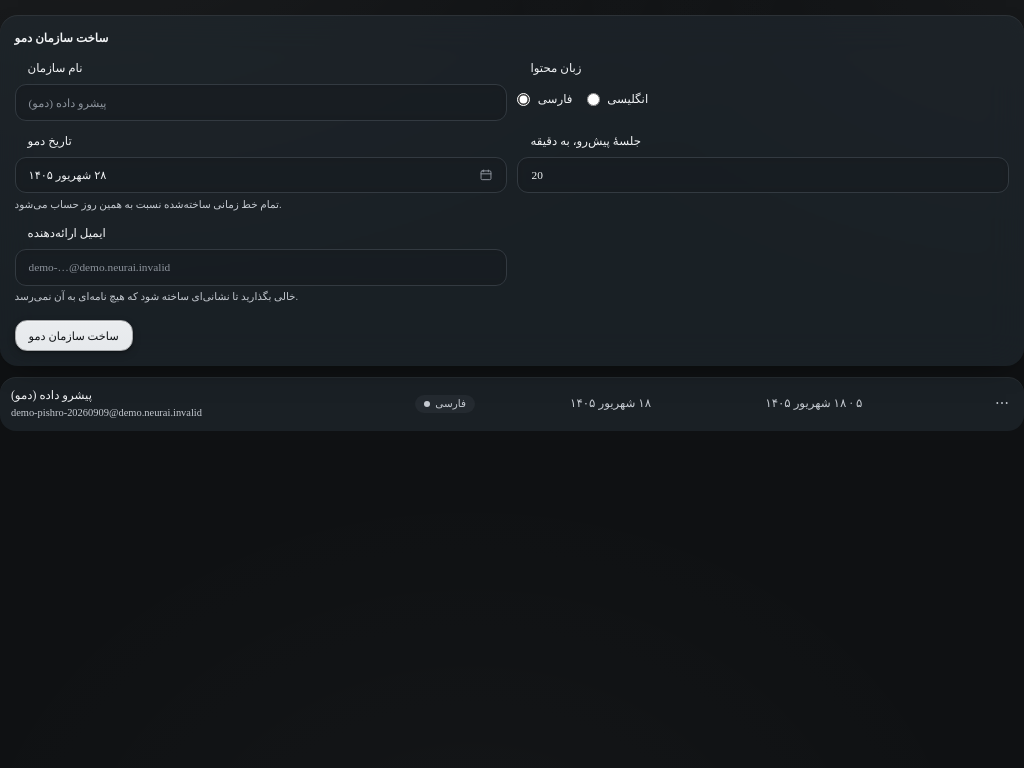
Test: the demo tab › re-reads the list once the seed has settled, so the table is never stale
The width and height of the screenshot is (1024, 768).
Expected: the text "پیشرو داده (دمو)" is shown, [11,388,92,402]
Step 1. Click the button "ساخت سازمان دمو" → (74, 336), box [14,320,133,351]
Wait 2100 ms
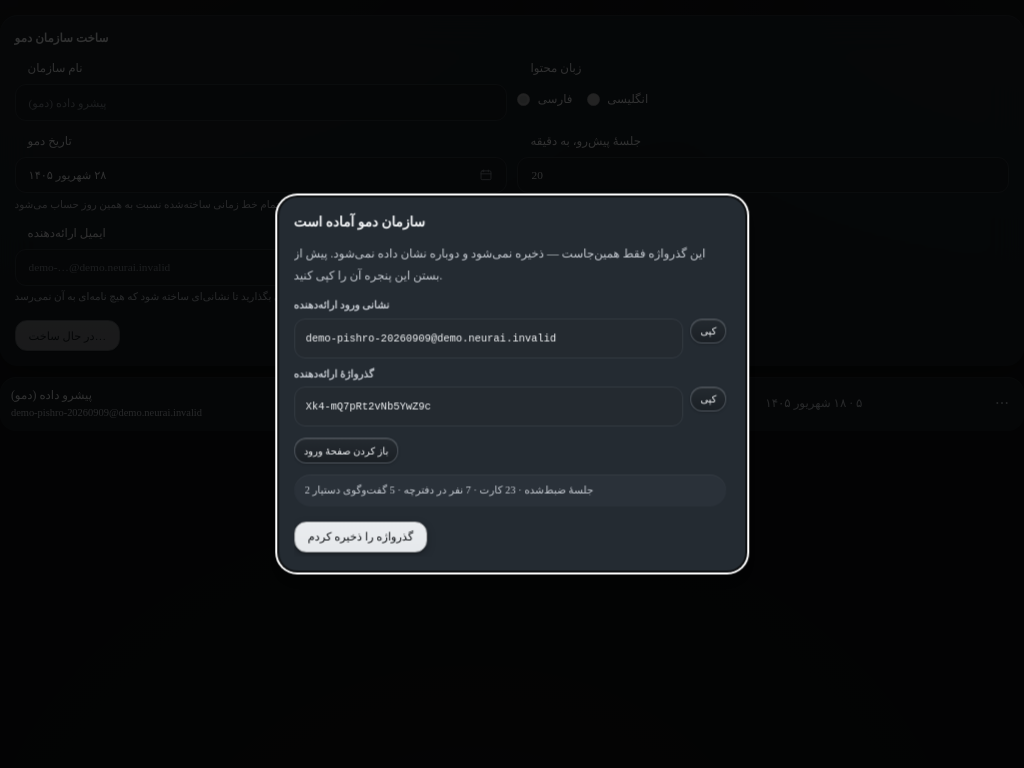
Now the dialog is shown, box [279,198,745,571]
